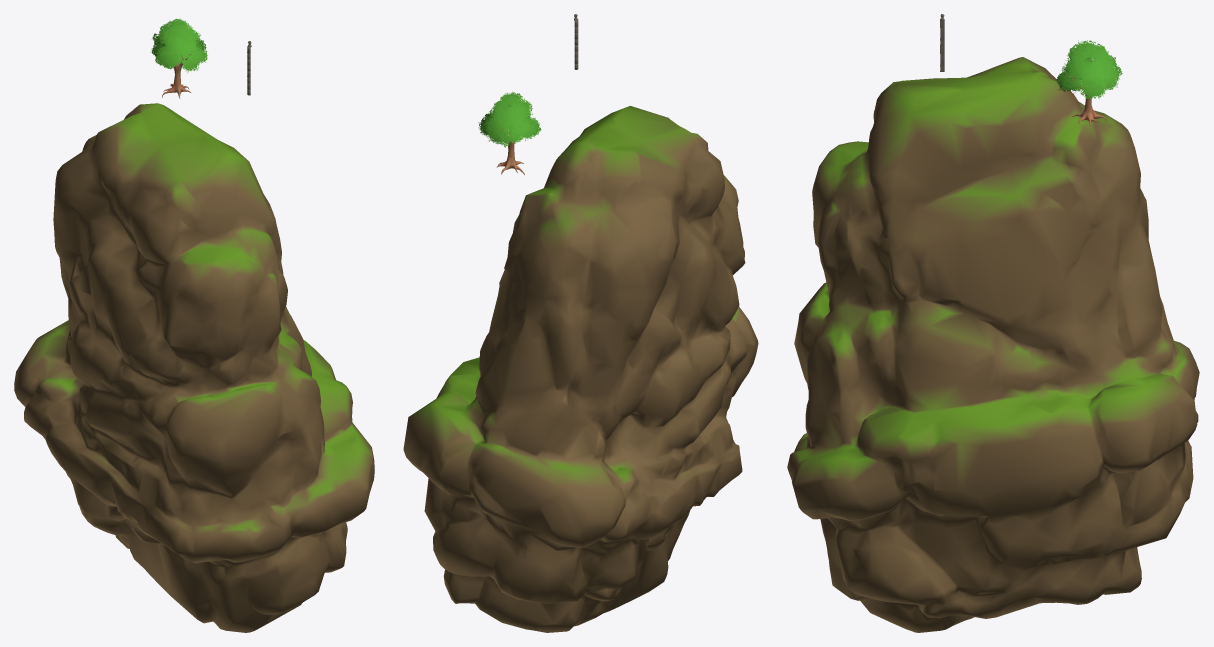
The model's file is cell_x-4_z0_render.gltf.
The picture shows the model from 3 angles, left to right: view 1: azimuth 30°, elevation 25°; view 2: azimuth 150°, elevation 25°; view 3: azimuth 270°, elevation 25°; orthographic projection. The views are drawn at different scales.
Parts seen in each view (by area): view 1: SM_ENV_cliff_castle_02_LOD0.030, SM_ENV_tree_castle_01_LOD0.004; view 2: SM_ENV_cliff_castle_02_LOD0.030, SM_ENV_tree_castle_01_LOD0.004; view 3: SM_ENV_cliff_castle_02_LOD0.030, SM_ENV_tree_castle_01_LOD0.004.
Boxes of the visible parts, x1,y1,x2,y2 form: SM_ENV_cliff_castle_02_LOD0.030: [14, 103, 374, 632]; SM_ENV_tree_castle_01_LOD0.004: [150, 18, 207, 98]; SM_ENV_cliff_castle_02_LOD0.030: [403, 106, 758, 632]; SM_ENV_tree_castle_01_LOD0.004: [478, 91, 541, 174]; SM_ENV_cliff_castle_02_LOD0.030: [787, 57, 1199, 632]; SM_ENV_tree_castle_01_LOD0.004: [1055, 40, 1122, 126].
Size of the model in its own units: 62.44 by 141 by 86.16.
4 materials, 3 textured.
